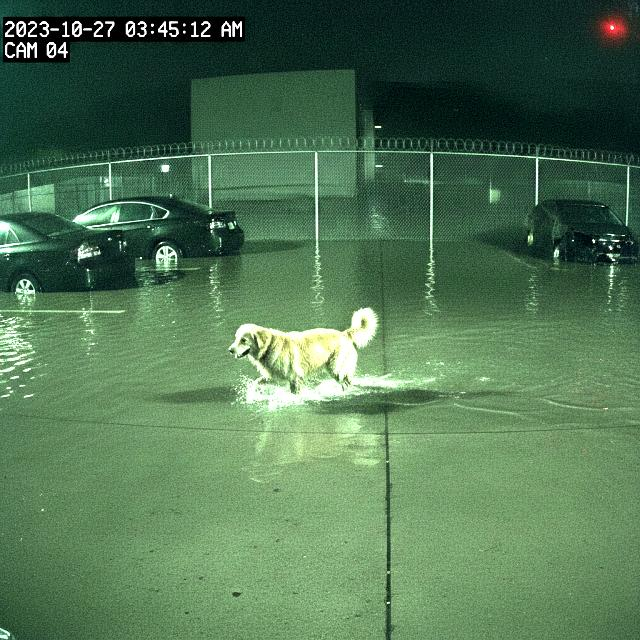dog: (214, 300, 406, 410)
